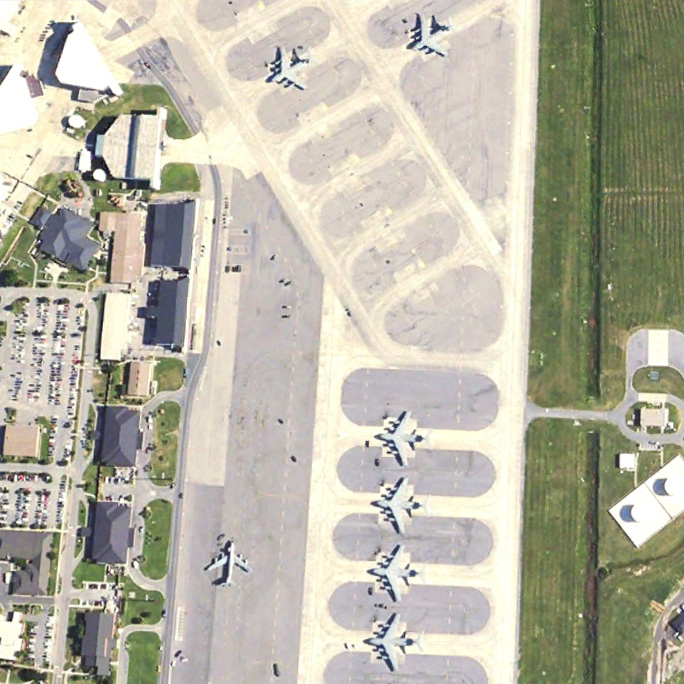A11: (206, 540, 252, 589)
A3: (364, 611, 423, 673), (370, 543, 427, 603), (375, 409, 432, 468), (373, 477, 429, 537), (269, 46, 312, 92), (412, 13, 452, 58)
